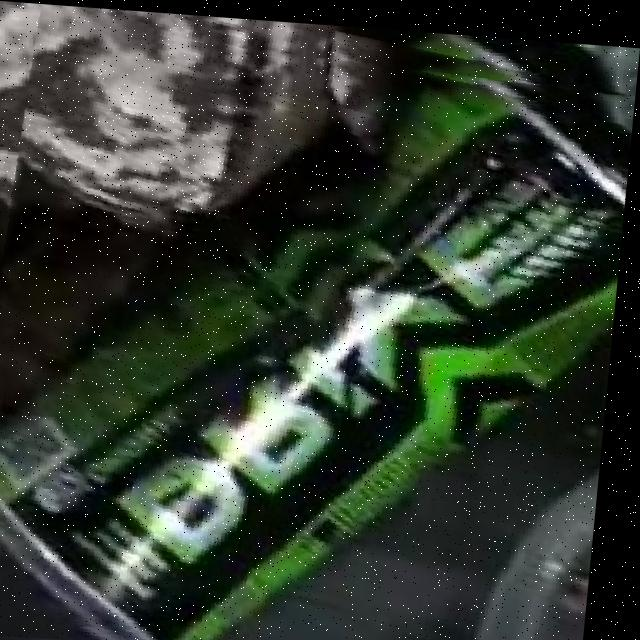can: (0, 57, 630, 640)
